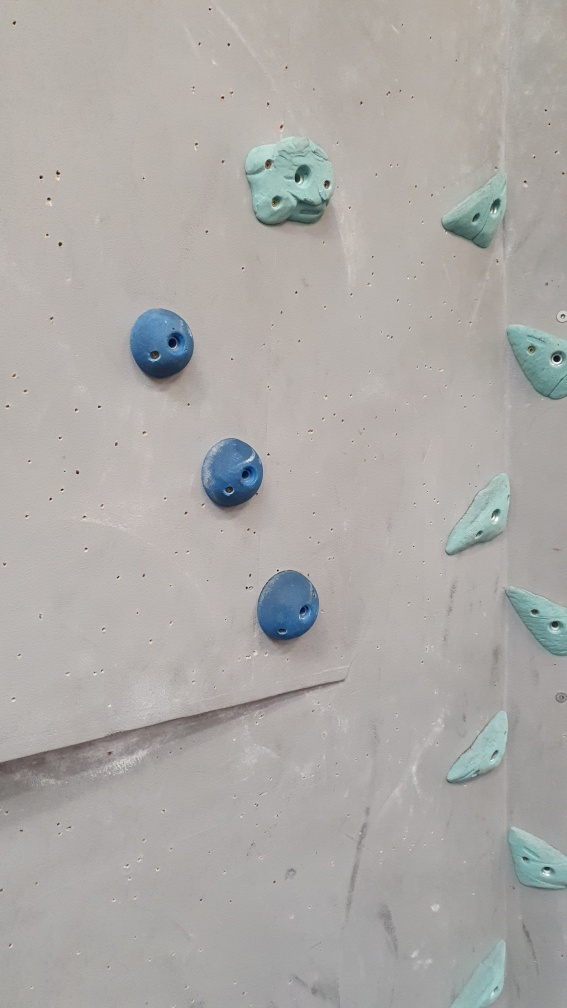Crimp: (440, 705, 515, 790), (439, 470, 512, 557), (500, 315, 567, 407), (437, 936, 522, 1008), (437, 170, 512, 248), (497, 579, 567, 661), (500, 818, 567, 892)
Sloper: (128, 302, 199, 388), (198, 432, 264, 519), (256, 567, 325, 649)
